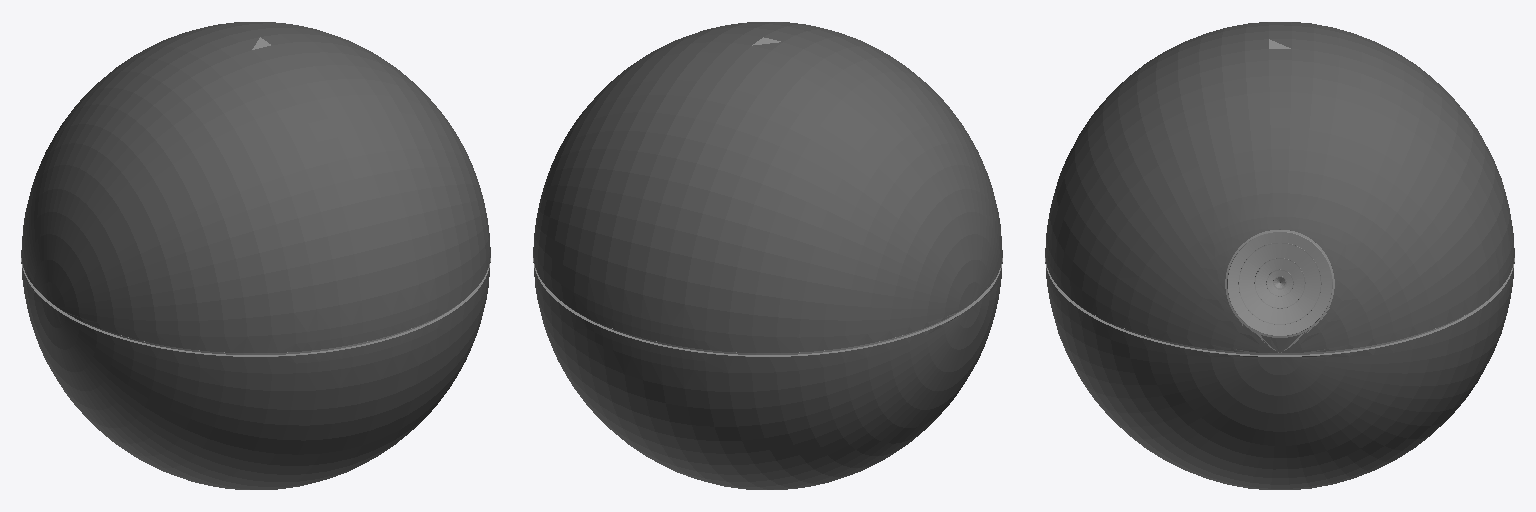
File: Estrella_Muerte.obj
3 renders of one model, left to right at view 1: azimuth 30°, elevation 25°; view 2: azimuth 150°, elevation 25°; view 3: azimuth 270°, elevation 25°, orthographic.
Parts seen in each view (by area): view 1: Mesh22 Obj015_1 Group1 Star_Wars_Death_Star1 Model, Mesh21 Obj014_1 Group1 Star_Wars_Death_Star1 Model, Mesh16 Obj012_1 Group1 Star_Wars_Death_Star1 Model, Mesh19 Obj011_1 Group1 Star_Wars_Death_Star1 Model; view 2: Mesh22 Obj015_1 Group1 Star_Wars_Death_Star1 Model, Mesh21 Obj014_1 Group1 Star_Wars_Death_Star1 Model, Mesh16 Obj012_1 Group1 Star_Wars_Death_Star1 Model, Mesh19 Obj011_1 Group1 Star_Wars_Death_Star1 Model; view 3: Mesh22 Obj015_1 Group1 Star_Wars_Death_Star1 Model, Mesh21 Obj014_1 Group1 Star_Wars_Death_Star1 Model, Mesh12 Obj009_1 Group1 Star_Wars_Death_Star1 Model, Mesh11 Obj007_1 Group1 Star_Wars_Death_Star1 Model, Mesh7 Obj005_1 Group1 Star_Wars_Death_Star1 Model, Mesh16 Obj012_1 Group1 Star_Wars_Death_Star1 Model, Mesh18 Obj010_1 Group1 Star_Wars_Death_Star1 Model, Mesh19 Obj011_1 Group1 Star_Wars_Death_Star1 Model.
Boxes of the visible parts, box(x1,y1,x2,y2) form: Mesh22 Obj015_1 Group1 Star_Wars_Death_Star1 Model: box(21, 22, 490, 352); Mesh21 Obj014_1 Group1 Star_Wars_Death_Star1 Model: box(21, 262, 490, 489); Mesh16 Obj012_1 Group1 Star_Wars_Death_Star1 Model: box(21, 258, 490, 356); Mesh19 Obj011_1 Group1 Star_Wars_Death_Star1 Model: box(53, 304, 458, 354); Mesh22 Obj015_1 Group1 Star_Wars_Death_Star1 Model: box(533, 22, 1002, 352); Mesh21 Obj014_1 Group1 Star_Wars_Death_Star1 Model: box(533, 262, 1002, 489); Mesh16 Obj012_1 Group1 Star_Wars_Death_Star1 Model: box(533, 258, 1002, 356); Mesh19 Obj011_1 Group1 Star_Wars_Death_Star1 Model: box(565, 304, 970, 354); Mesh22 Obj015_1 Group1 Star_Wars_Death_Star1 Model: box(1045, 22, 1514, 352); Mesh21 Obj014_1 Group1 Star_Wars_Death_Star1 Model: box(1045, 229, 1514, 489); Mesh12 Obj009_1 Group1 Star_Wars_Death_Star1 Model: box(1228, 232, 1331, 335); Mesh11 Obj007_1 Group1 Star_Wars_Death_Star1 Model: box(1239, 243, 1320, 323); Mesh7 Obj005_1 Group1 Star_Wars_Death_Star1 Model: box(1255, 259, 1304, 307); Mesh16 Obj012_1 Group1 Star_Wars_Death_Star1 Model: box(1045, 258, 1514, 356); Mesh18 Obj010_1 Group1 Star_Wars_Death_Star1 Model: box(1225, 230, 1334, 337); Mesh19 Obj011_1 Group1 Star_Wars_Death_Star1 Model: box(1077, 304, 1482, 354).
Size of the model in its own units: 11811 by 11785 by 11811.